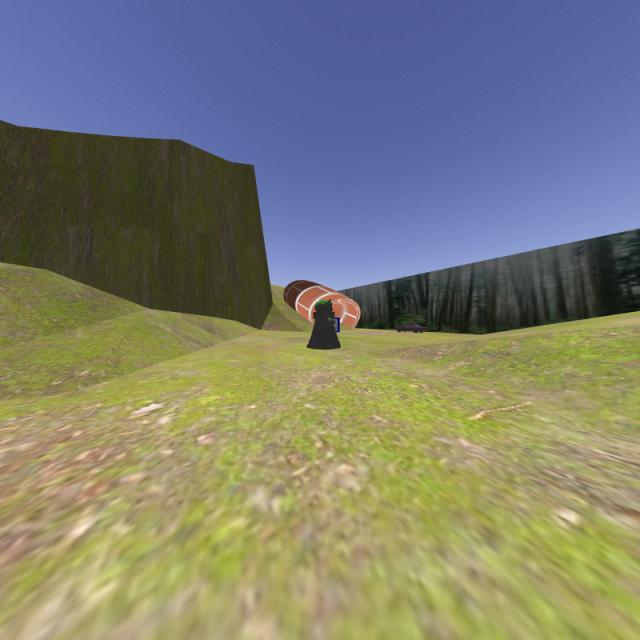yoda: (304, 298, 342, 352)
